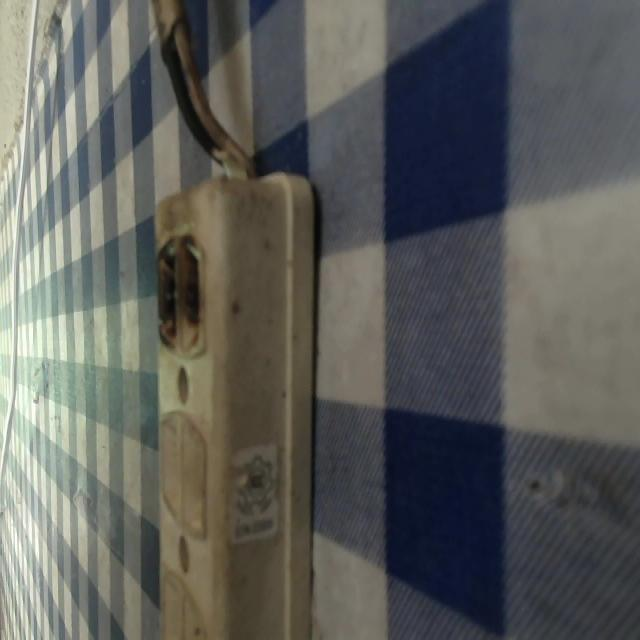-: (152, 223, 214, 348)
